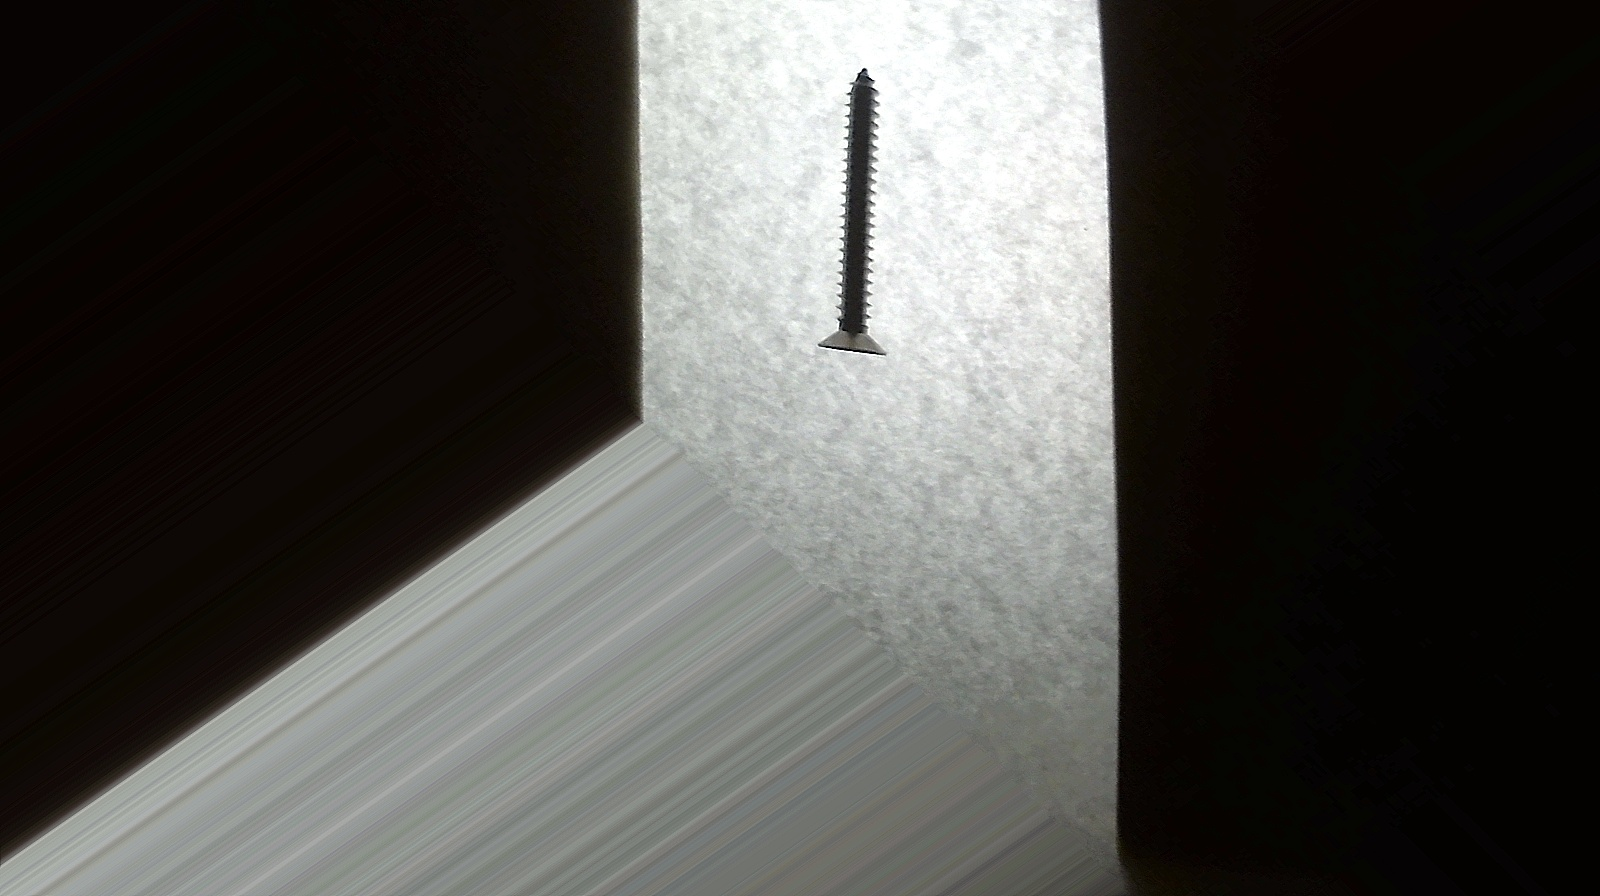S002: (651, 40, 1073, 389)
